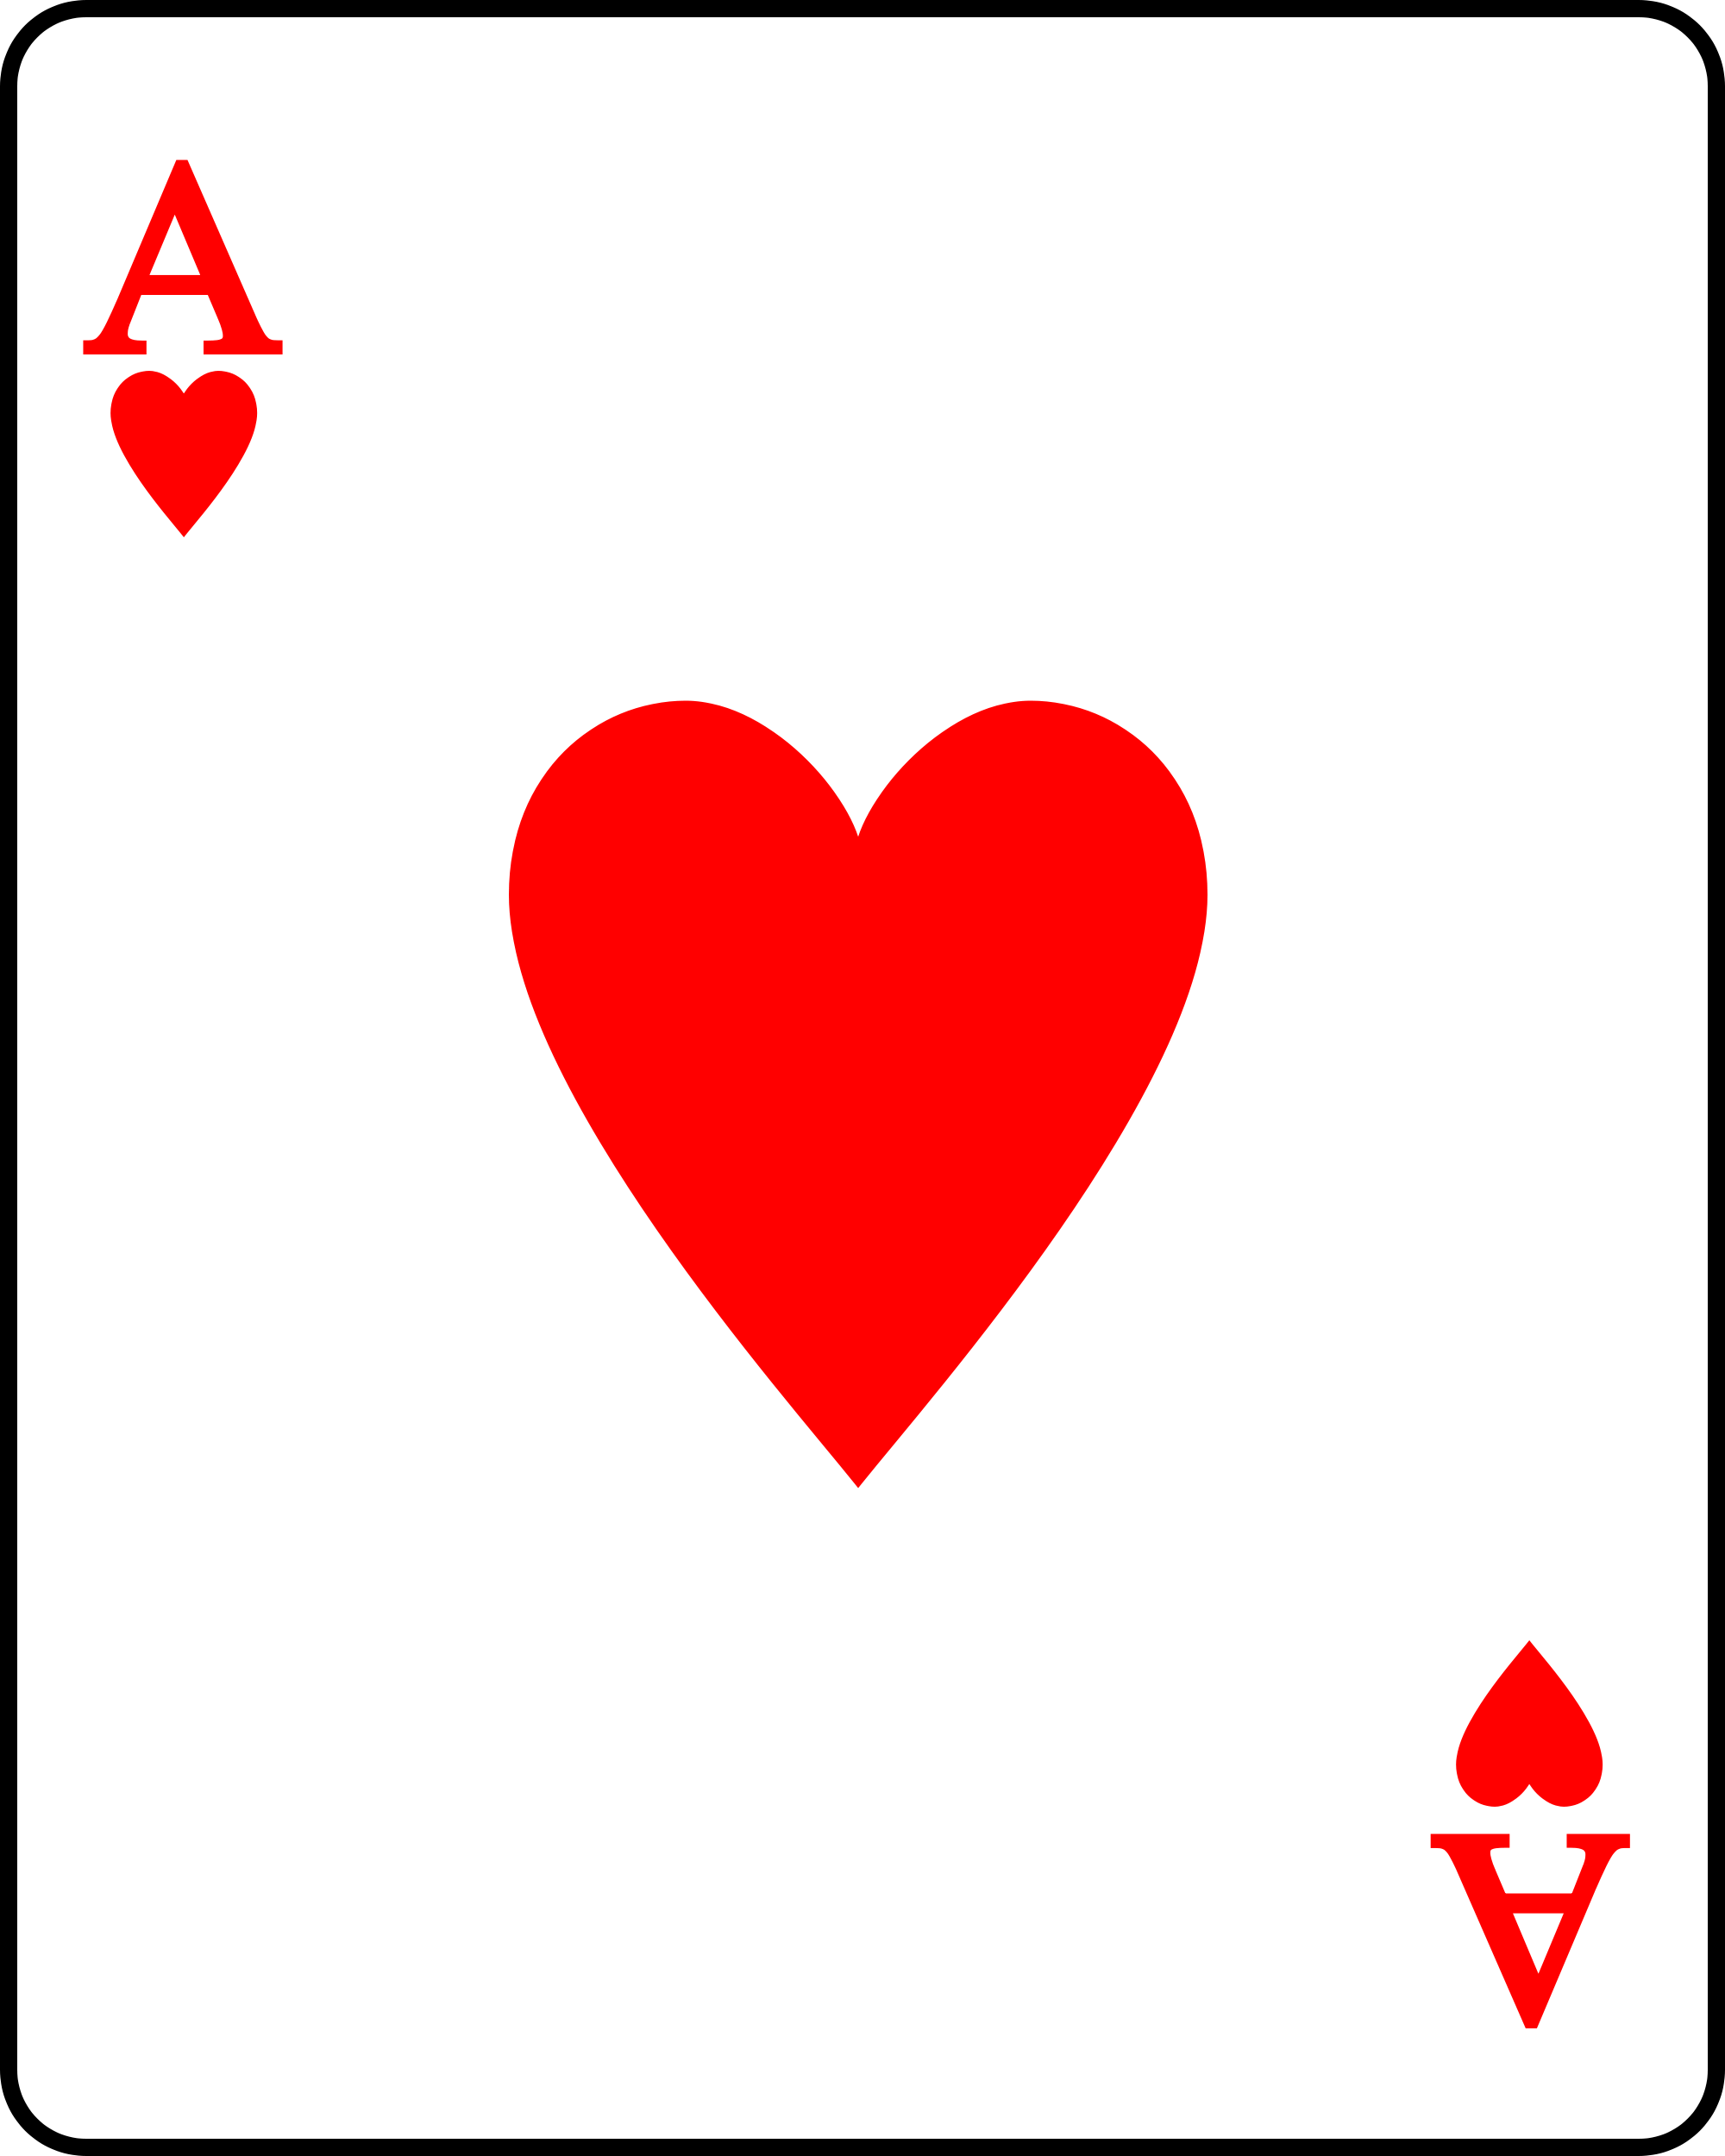ace of hearts: (19, 24, 1704, 2128)
